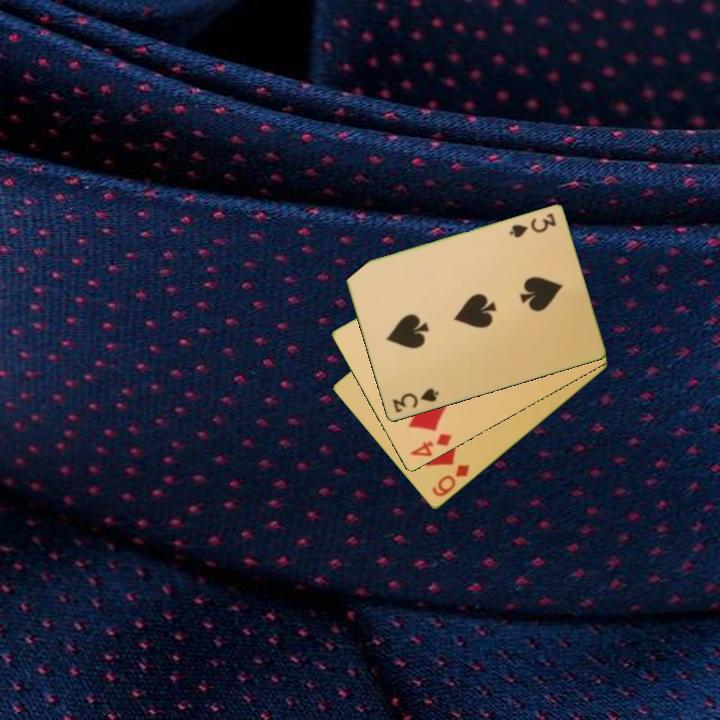3s: (506, 210, 559, 241), (389, 385, 441, 416)
4d: (406, 430, 455, 460)
6d: (428, 461, 473, 500)
